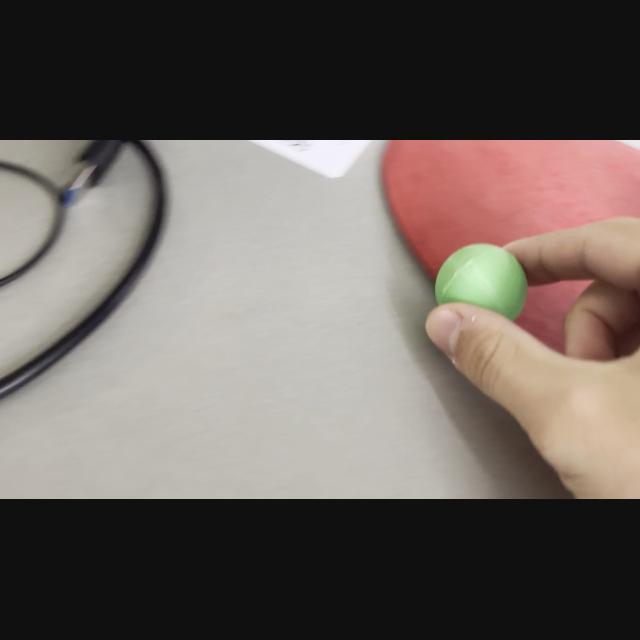objects: (430, 235, 532, 319)
